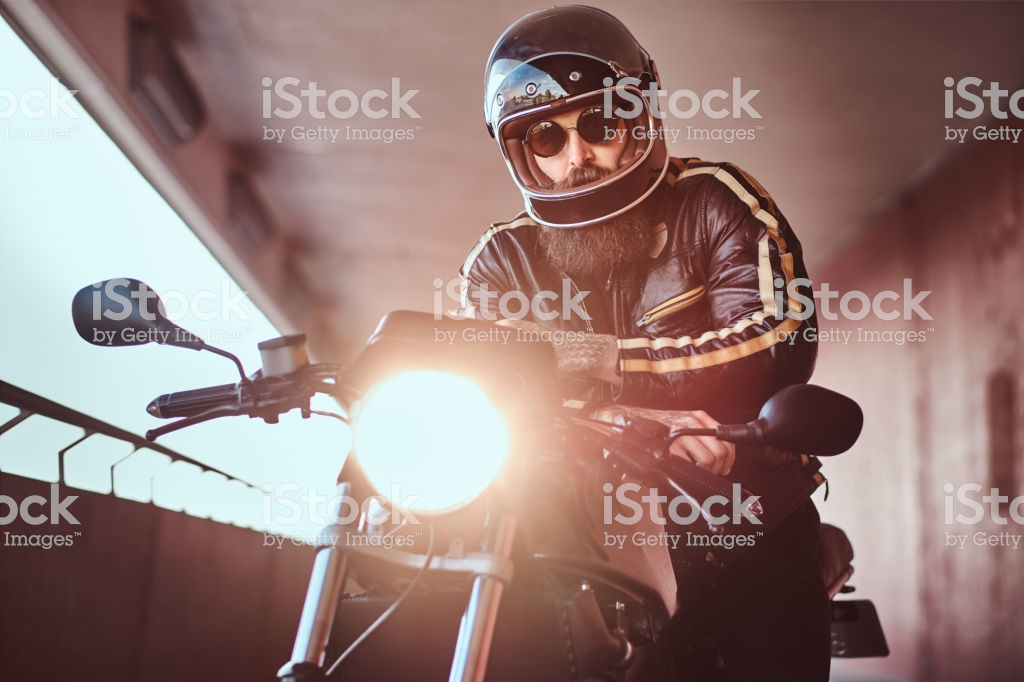helmet: (469, 6, 670, 198)
